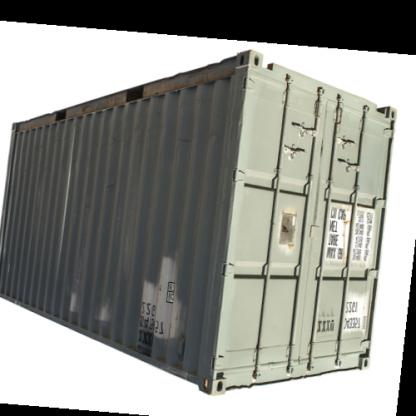Damage: (134, 253, 190, 343), (273, 206, 302, 263), (63, 286, 88, 322), (94, 297, 118, 327), (97, 179, 121, 201), (124, 122, 157, 138), (174, 130, 198, 150)
